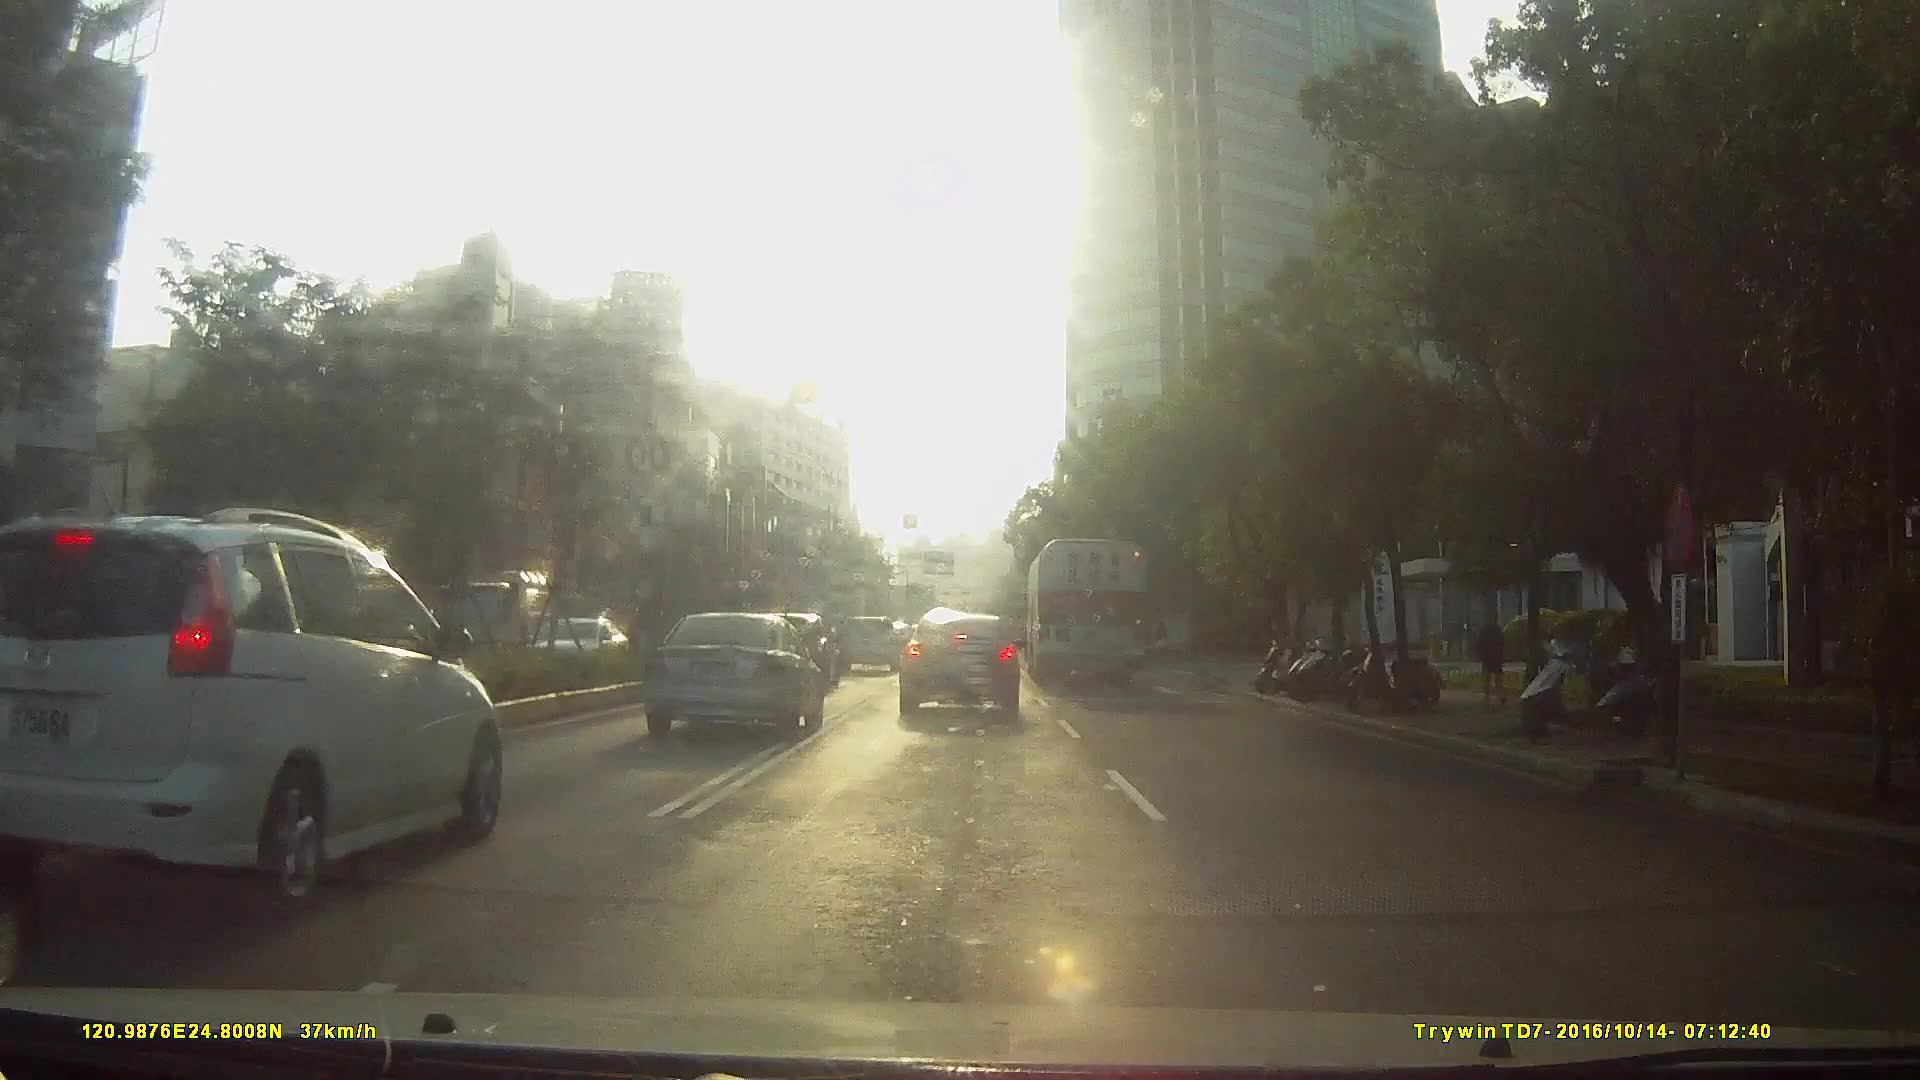pedestrian: (1473, 609, 1514, 710)
vehicle: (29, 490, 502, 929), (250, 556, 684, 868), (633, 608, 820, 741), (1022, 534, 1147, 690), (894, 610, 1023, 719), (416, 562, 535, 659), (529, 615, 633, 678), (831, 613, 899, 671)
